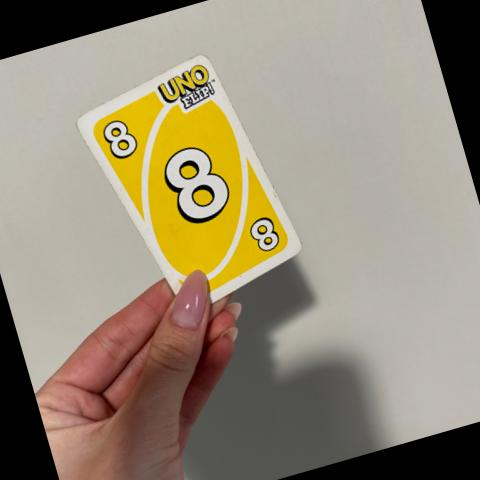reverse_red: (165, 150, 230, 224), (104, 116, 135, 161), (251, 213, 280, 255)
